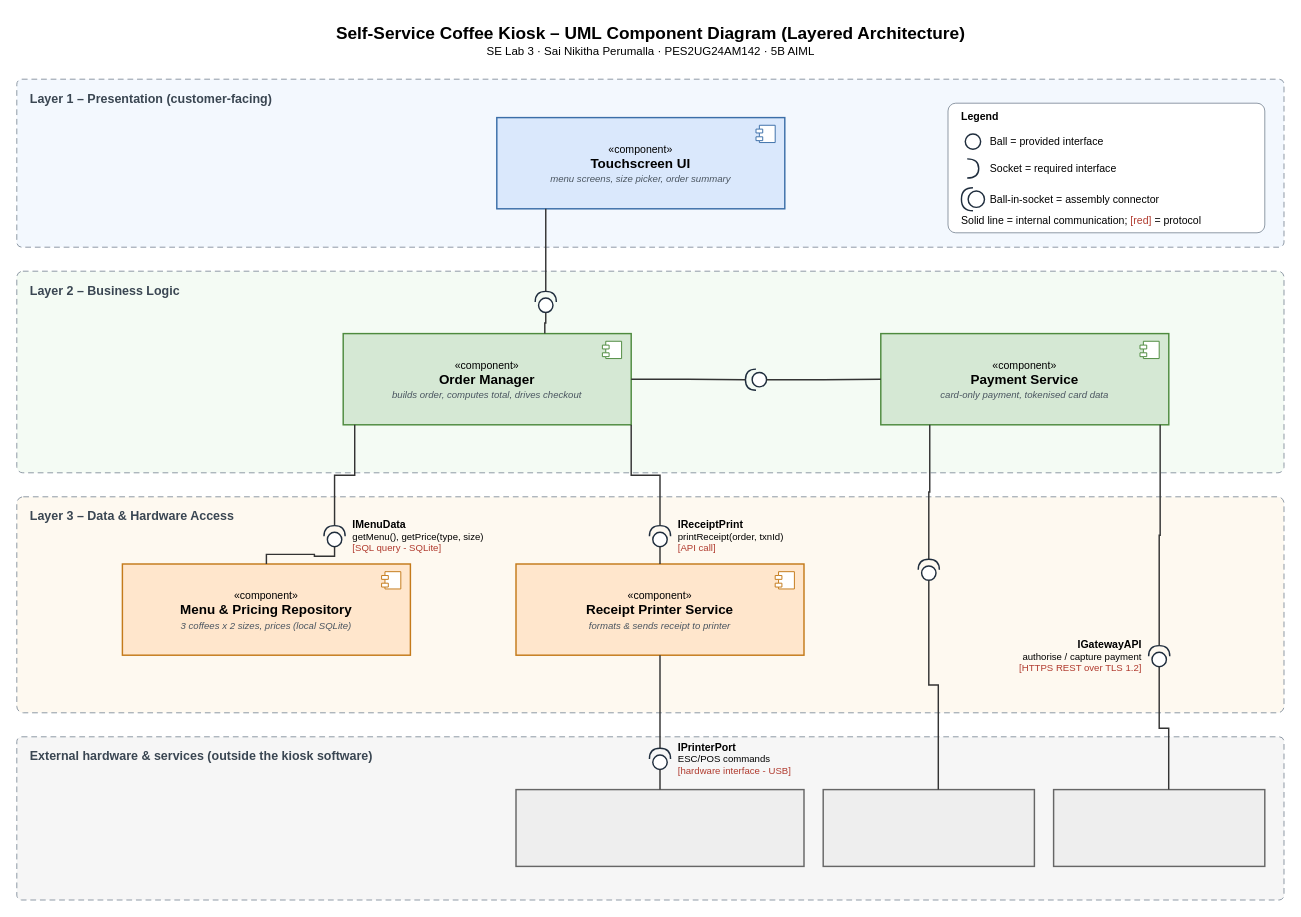
The diagram is 1301 pixels wide and 917 high, and some of its shapes have lost their labels. Here are the shapes that lost their labels. From the top down, the centre of each, then its label:
At point (545, 301): "IOrderEntry selectCoffee(type, size), checkout() [in-process API call]".
At point (755, 379): "IPayment authorize(amount) : PaymentResult [API call]".
At point (928, 569): "ICardReader readCard() : CardToken [hardware interface - USB-HID]".
At point (659, 827): "«device» Thermal Receipt Printer kiosk hardware".
At point (928, 827): "«device» Card Reader / PIN Pad EMV chip + contactless".
At point (1158, 827): "«external system» Card Payment Gateway bank / acquirer".
